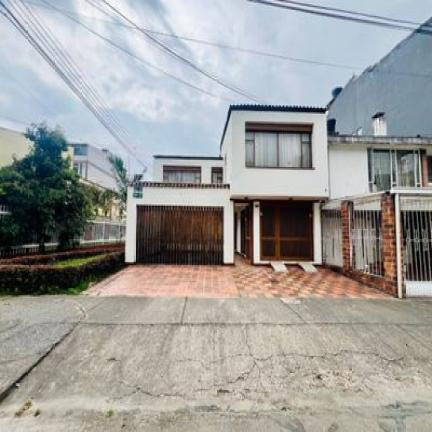casa: (127, 104, 335, 264)
